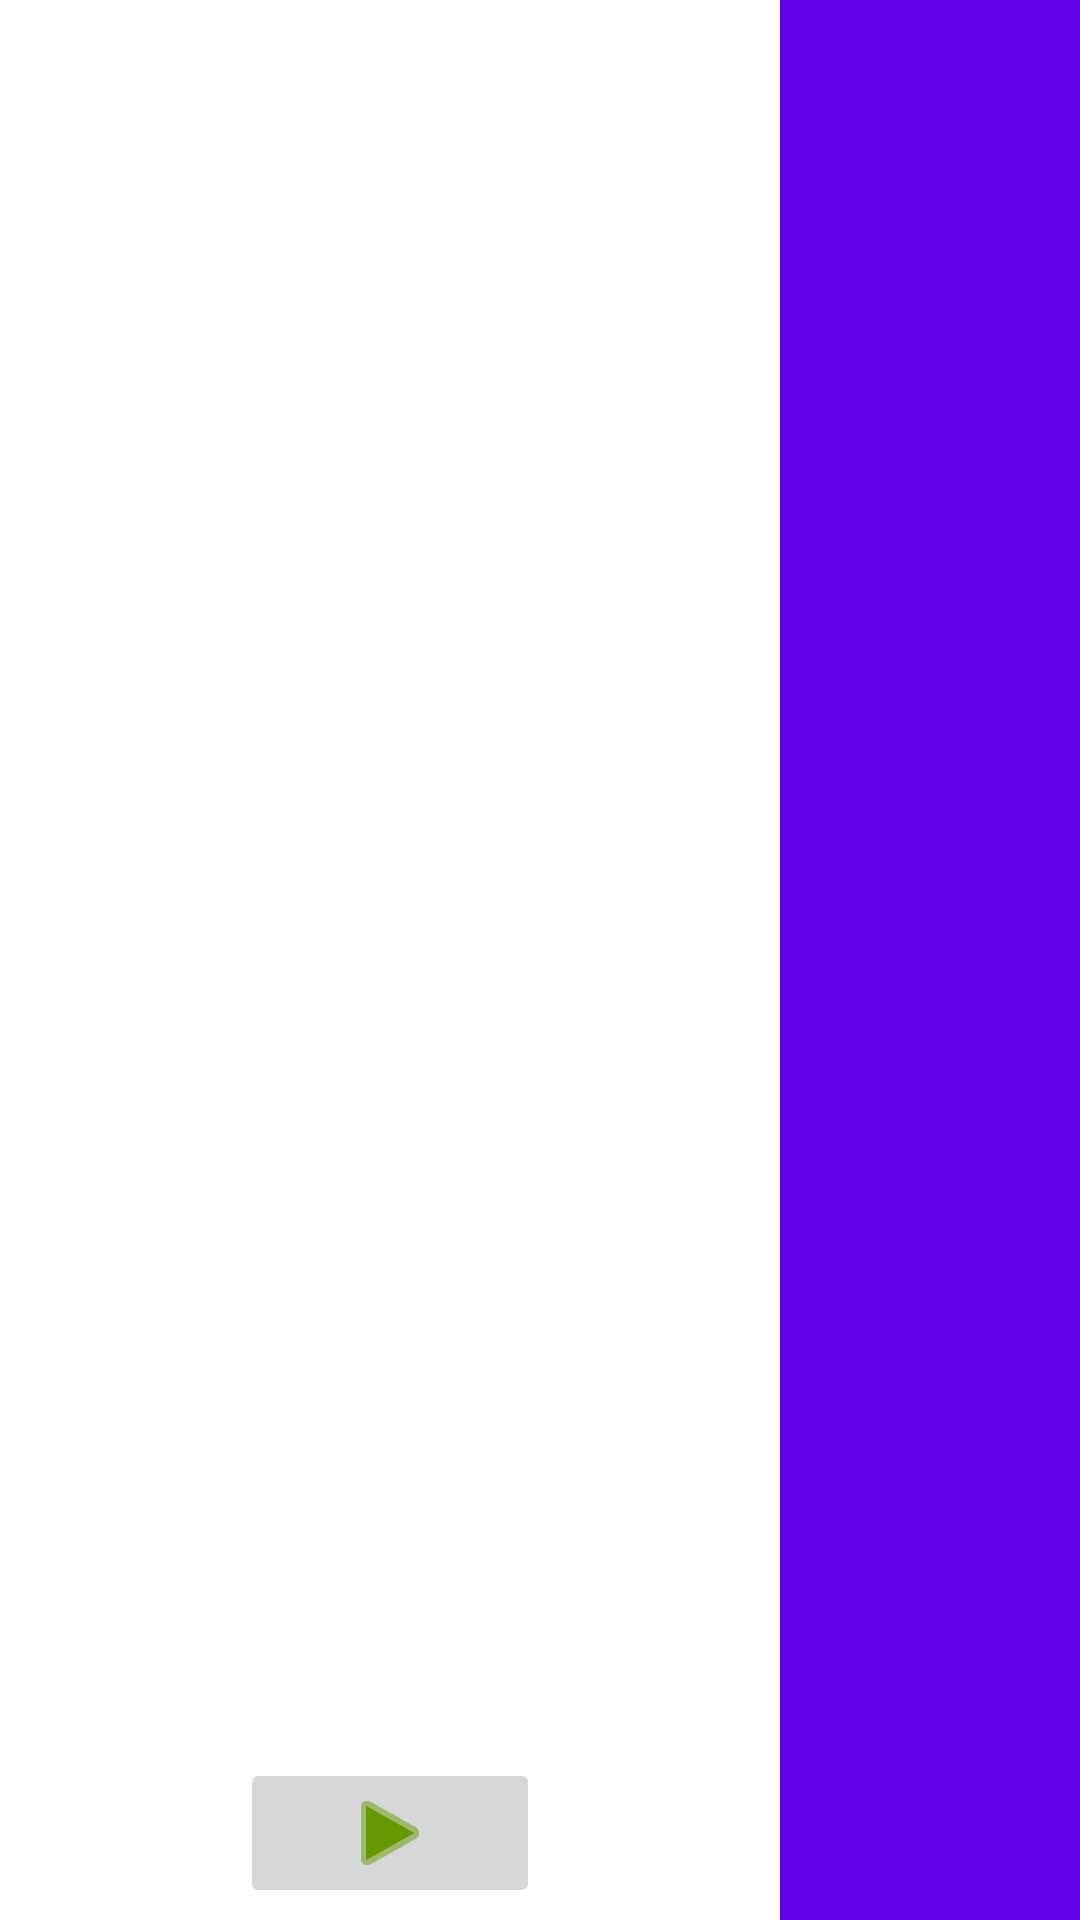

Icons on this 1080px×1920px Android screen, each with its box as [x1=x1, y1=y1, x2=x2, y2=y2]:
play: [x1=252, y1=1776, x2=528, y2=1890]
